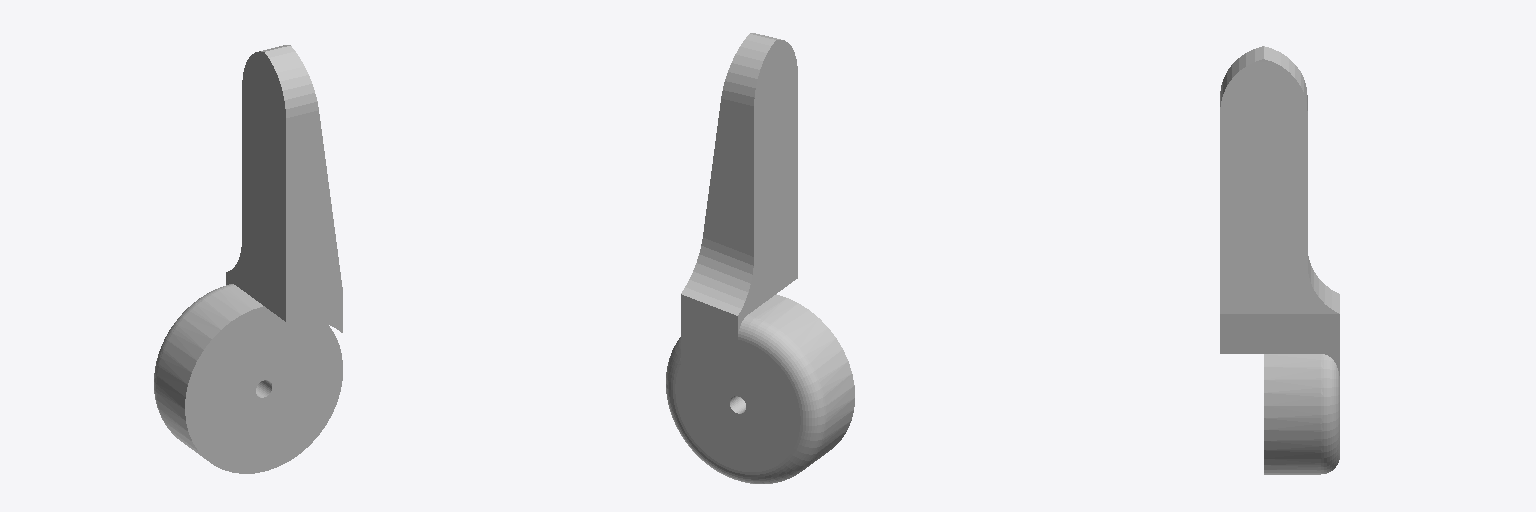
The model's file is tool gripper1 simple.OBJ.
3 renders of one model, left to right at view 1: azimuth 30°, elevation 25°; view 2: azimuth 150°, elevation 25°; view 3: azimuth 270°, elevation 25°, orthographic.
Visible parts, largest first — view 1: /ambf/env/psm2/tool_gripper1_simple; view 2: /ambf/env/psm2/tool_gripper1_simple; view 3: /ambf/env/psm2/tool_gripper1_simple.
Part boxes in pixels (bbox=[...]): /ambf/env/psm2/tool_gripper1_simple: bbox=[154, 45, 342, 473]; /ambf/env/psm2/tool_gripper1_simple: bbox=[666, 33, 854, 483]; /ambf/env/psm2/tool_gripper1_simple: bbox=[1220, 46, 1339, 474].
Size of the model in its own units: 0.0048 by 0.0122 by 0.0032.